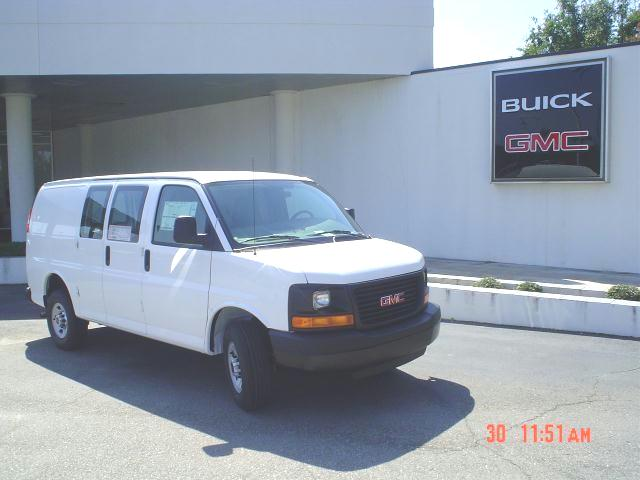GMC: (497, 127, 595, 163), (376, 290, 414, 309)
